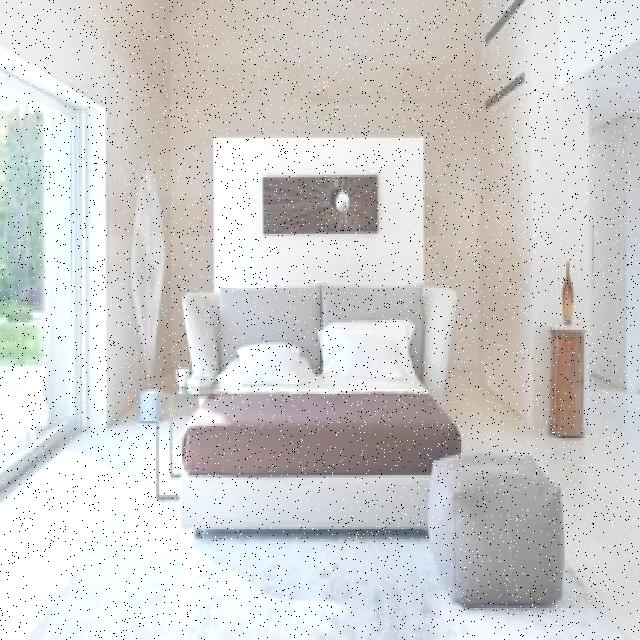bed: (179, 284, 463, 518)
